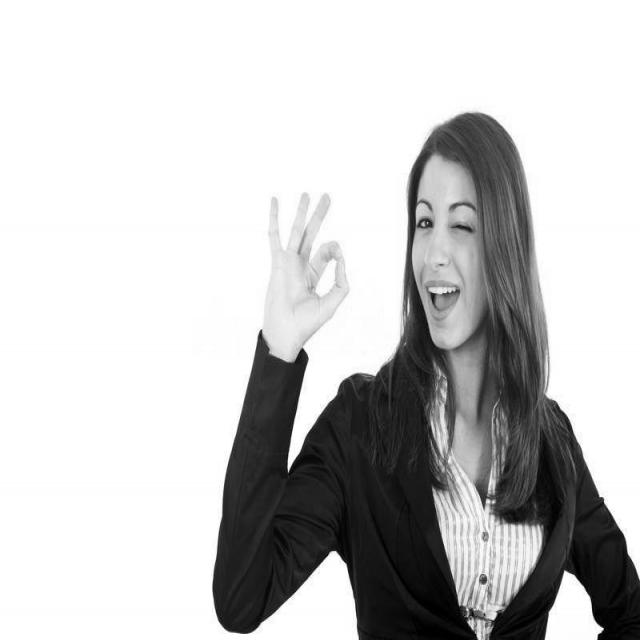perfect: (256, 184, 353, 367)
